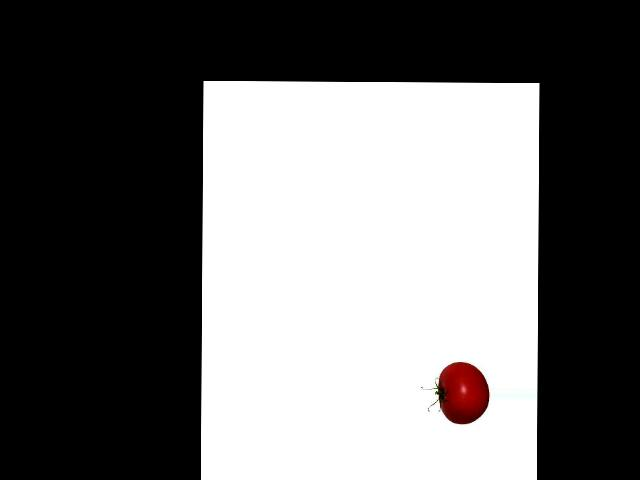tomato: (437, 361, 489, 424)
